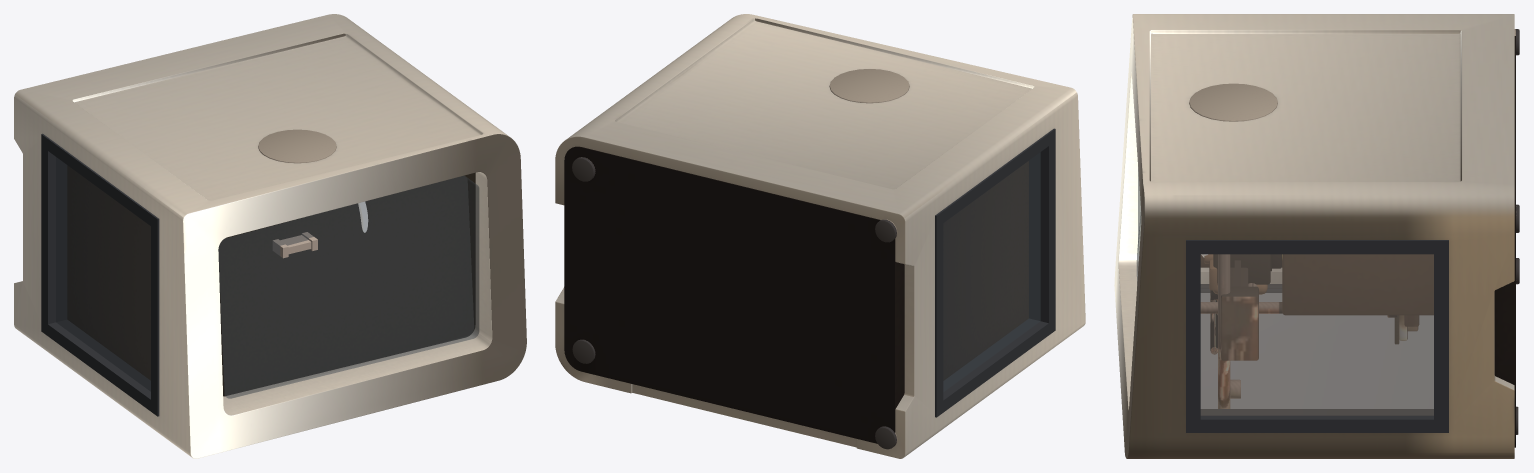
The model's file is deltrol_p2s_clean_upper_asset_v1.glb.
3 views of the same model, side by side, from view 1: azimuth 30°, elevation 25°; view 2: azimuth 150°, elevation 25°; view 3: azimuth 270°, elevation 25° (orthographic). The views are drawn at different scales.
Parts seen in each view (by area): view 1: unibody_shell, top_roof_glass, interior_ceiling_liner, left_glass_window, interior_left_back_baffle, left_window_gasket, rear_exhaust_shroud, clean_upper_rail_assembly; view 2: unibody_shell, chassis_recessed_plinth, left_glass_window, interior_left_back_baffle, left_window_gasket, rear_exhaust_shroud; view 3: unibody_shell, right_glass_window, right_glass_sheen, front_glass_door, right_window_gasket, interior_rear_electronics_box, x_gantry_crossbeam, chassis_recessed_plinth, rear_exhaust_shroud, x_guide_front, toolhead_chassis.
Boxes of the visible parts, x1,y1,x2,y2 form: unibody_shell: (14,14,526,458); top_roof_glass: (218,176,479,398); interior_ceiling_liner: (218,172,475,396); left_glass_window: (56,157,150,391); interior_left_back_baffle: (67,165,150,380); left_window_gasket: (41,133,159,416); rear_exhaust_shroud: (258,129,336,163); clean_upper_rail_assembly: (272,232,317,258); unibody_shell: (555,14,1085,458); chassis_recessed_plinth: (564,146,904,443); left_glass_window: (943,152,1040,391); interior_left_back_baffle: (943,161,1028,380); left_window_gasket: (935,128,1055,417); rear_exhaust_shroud: (829,69,909,103); unibody_shell: (1114,14,1514,458); right_glass_window: (1201,254,1433,414); right_glass_sheen: (1201,255,1433,414); front_glass_door: (1201,289,1433,408); right_window_gasket: (1186,240,1448,432); interior_rear_electronics_box: (1201,254,1433,314); x_gantry_crossbeam: (1221,260,1258,360); chassis_recessed_plinth: (1494,36,1515,447); rear_exhaust_shroud: (1189,83,1277,121); x_guide_front: (1201,254,1397,408); toolhead_chassis: (1213,254,1270,284).
Bounding box in the file's own units: 0.426 × 0.2955 × 0.3818.
19 materials, 14 textured.
